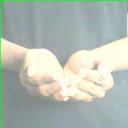hand: (65, 49, 116, 103), (18, 47, 65, 103)
